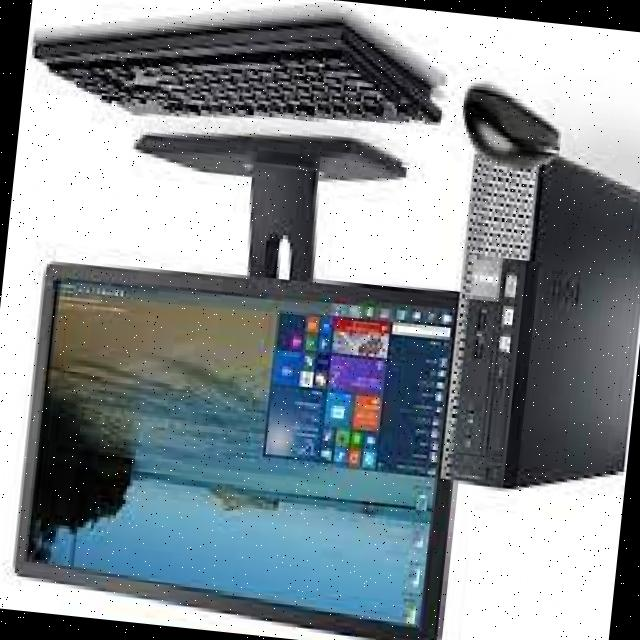Computer: (427, 139, 640, 511)
Monitor: (0, 246, 483, 640)
